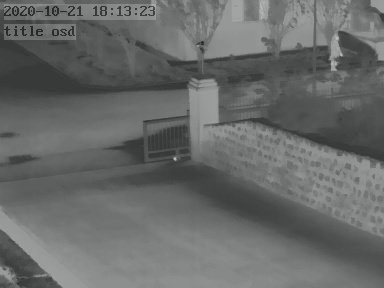person: (328, 32, 344, 75)
